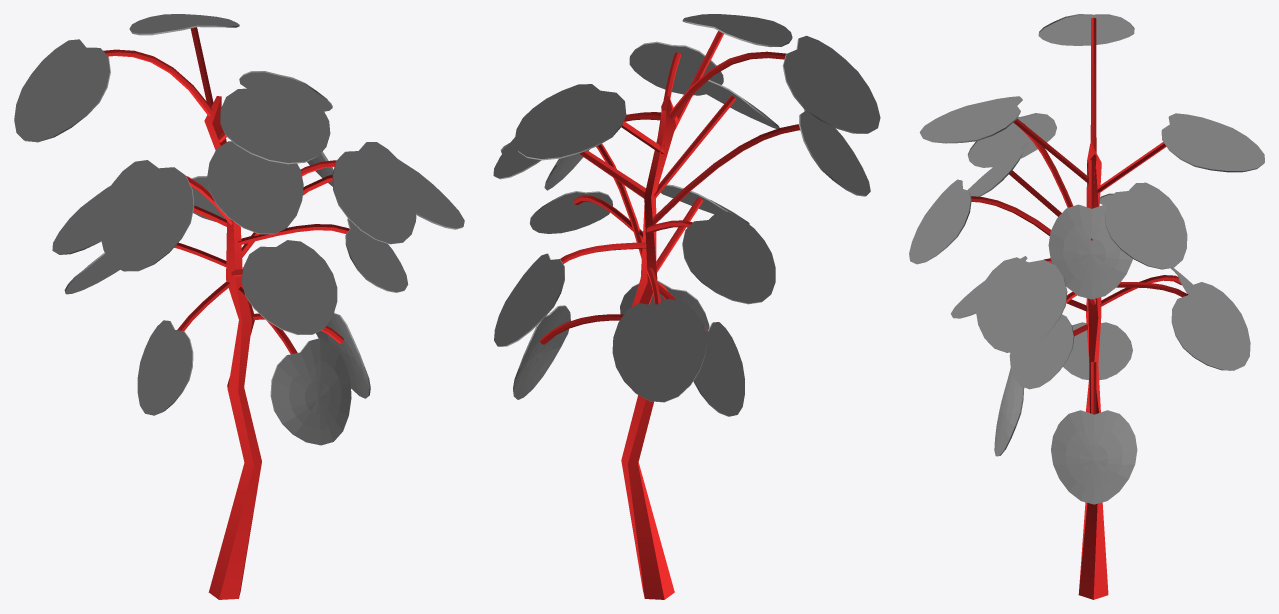
Rendered from ArbreGrossesFeuillesrty2.fbx.
The picture shows the model from 3 angles, left to right: view 1: azimuth 30°, elevation 25°; view 2: azimuth 150°, elevation 25°; view 3: azimuth 270°, elevation 25°; orthographic projection. The views are drawn at different scales.
Visible parts, largest first — view 1: Arbre_GrosseFeuilles; view 2: Arbre_GrosseFeuilles; view 3: Arbre_GrosseFeuilles.
Boxes of the visible parts, x1,y1,x2,y2 form: Arbre_GrosseFeuilles: (14, 14, 464, 599); Arbre_GrosseFeuilles: (493, 14, 880, 599); Arbre_GrosseFeuilles: (909, 14, 1264, 599).
Bounding box in the file's own units: 237 × 328 × 203.
